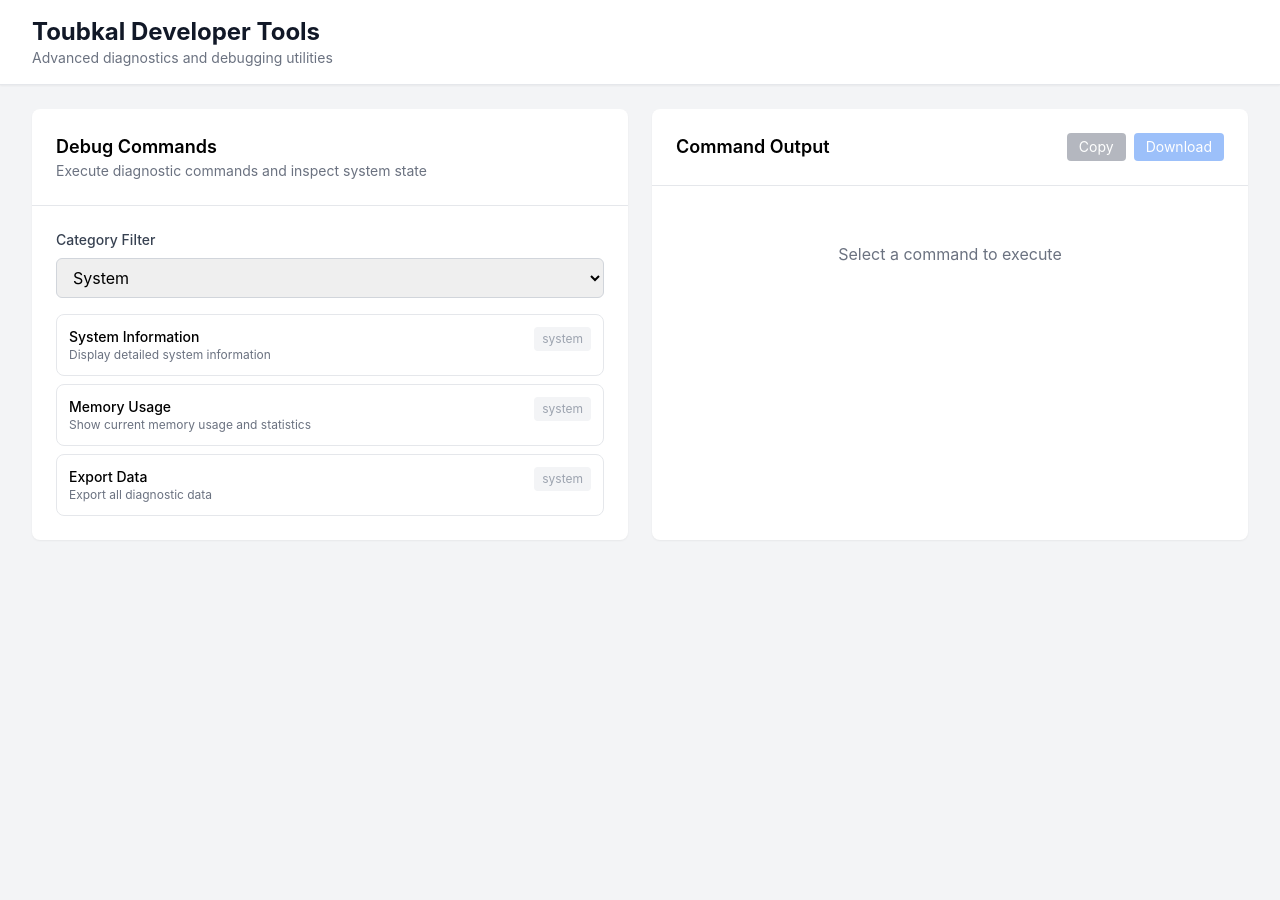
it: DeveloperTools › should execute log levels command
The image size is (1280, 900).
// Change category filter to show all commands
Step 1. Select "All Categories" in the dropdown showing "System" → (330, 278), box left=56, top=258, right=604, bottom=298
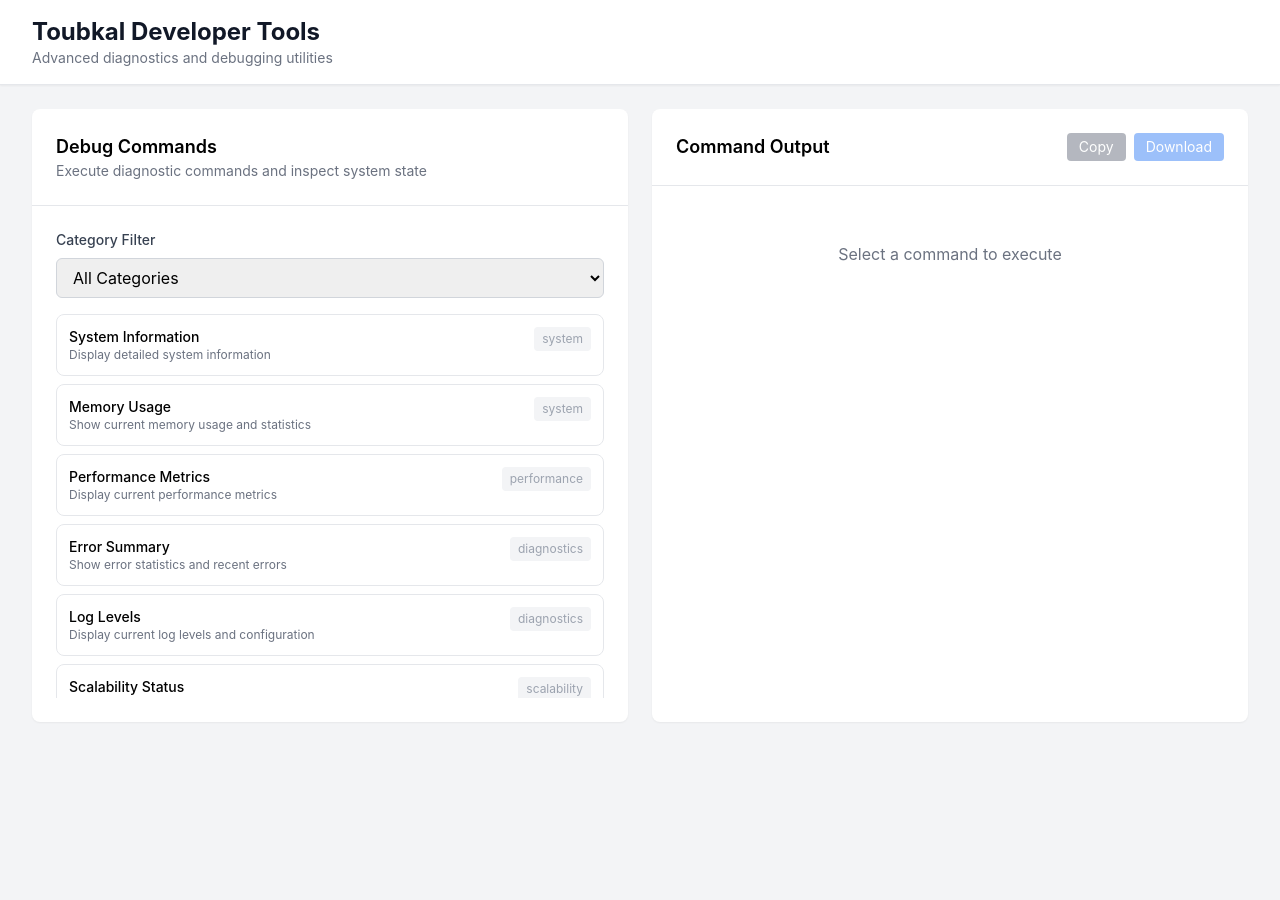
Step 2. Click the heading "Log Levels" → (105, 616), box left=69, top=608, right=141, bottom=625
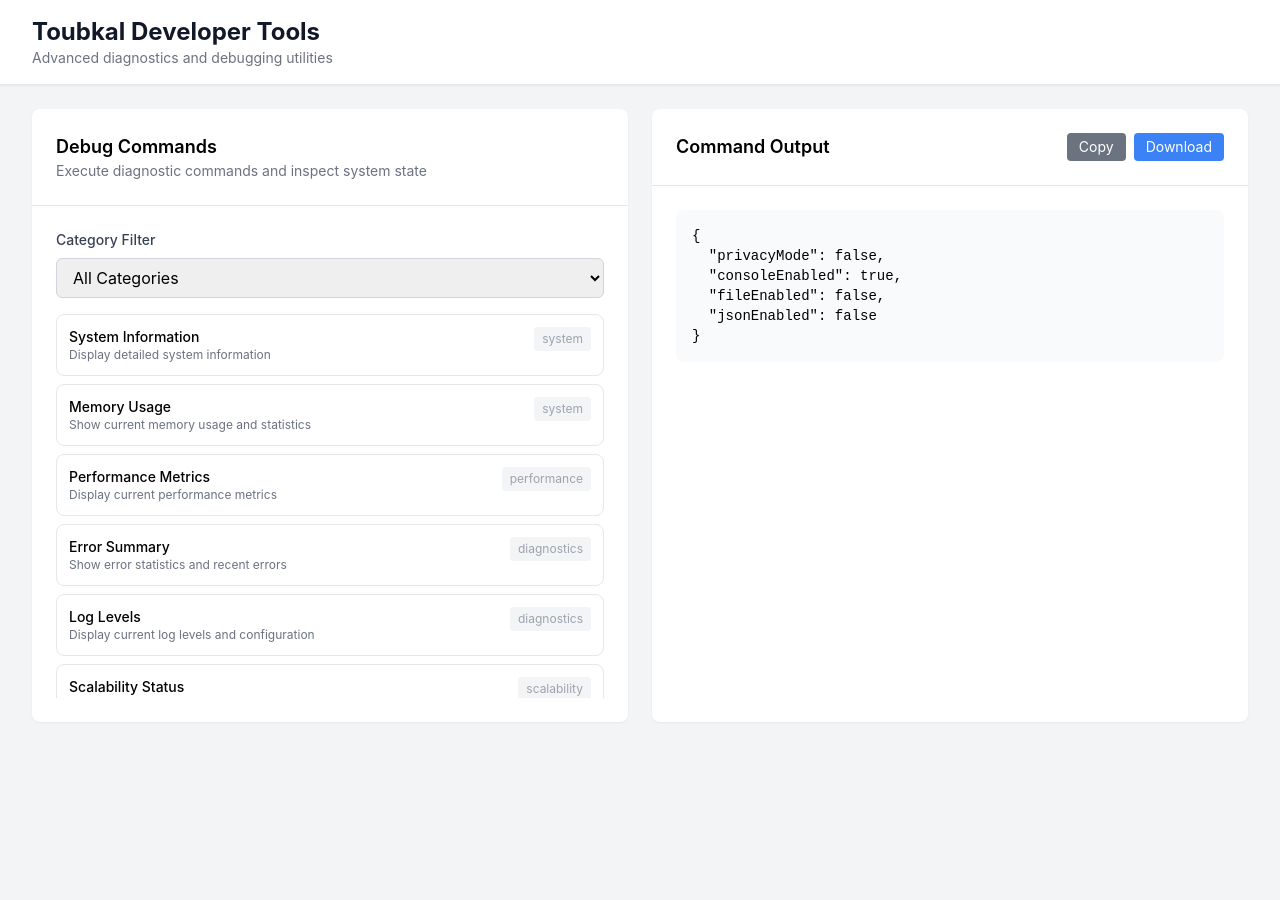
Now the text "consoleEnabled" is shown, box left=692, top=228, right=902, bottom=344
